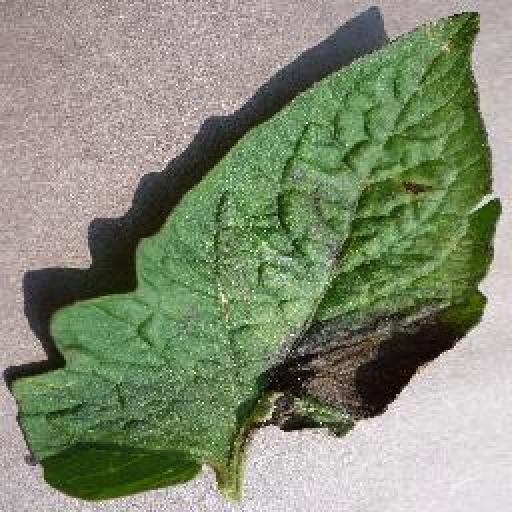disease_tomato: (7, 7, 501, 501)
